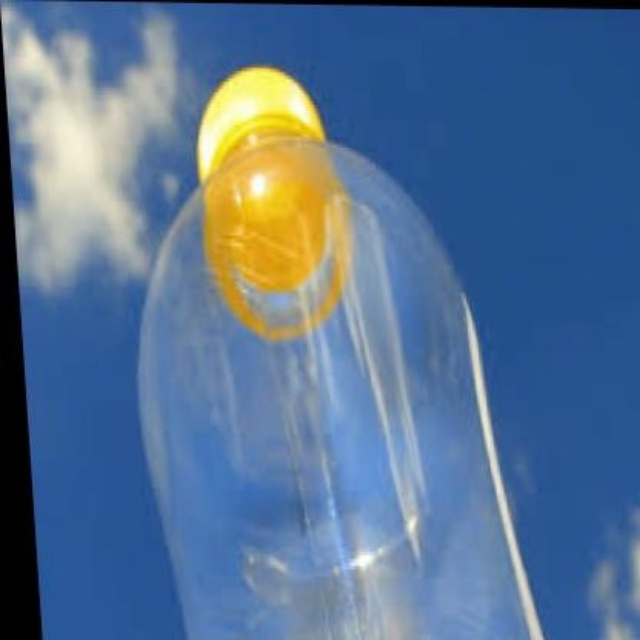trash: (138, 68, 542, 638)
